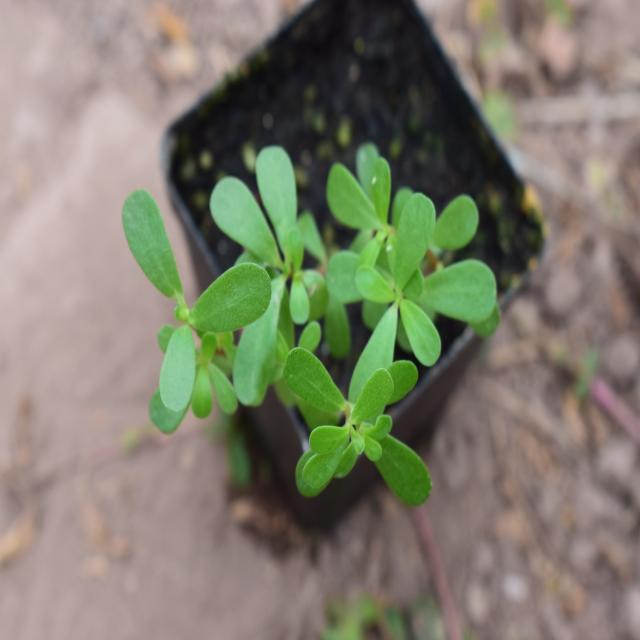purslane: (122, 150, 520, 490)
